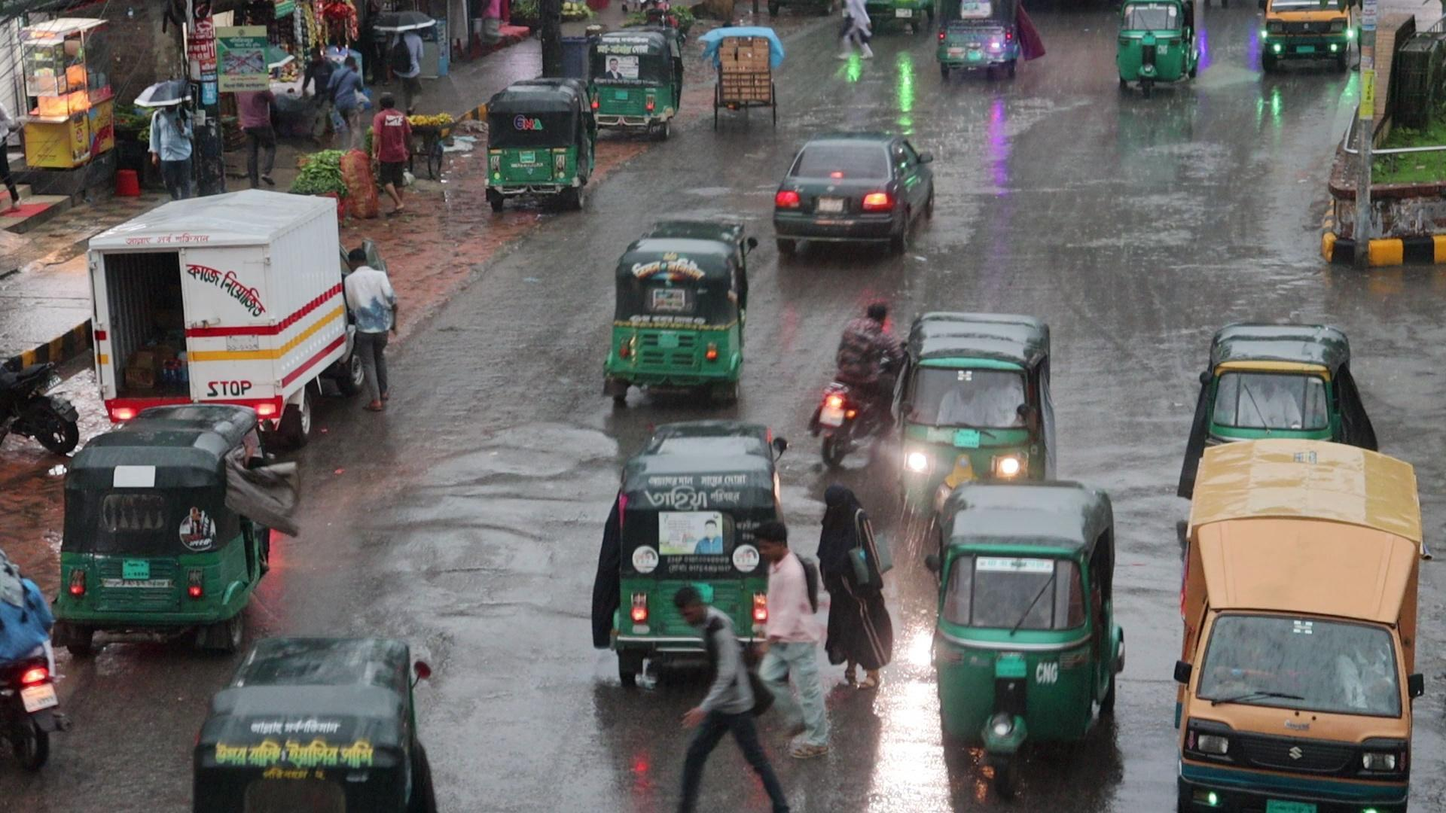Car: (774, 127, 931, 256)
Truck: (1171, 443, 1426, 813)
